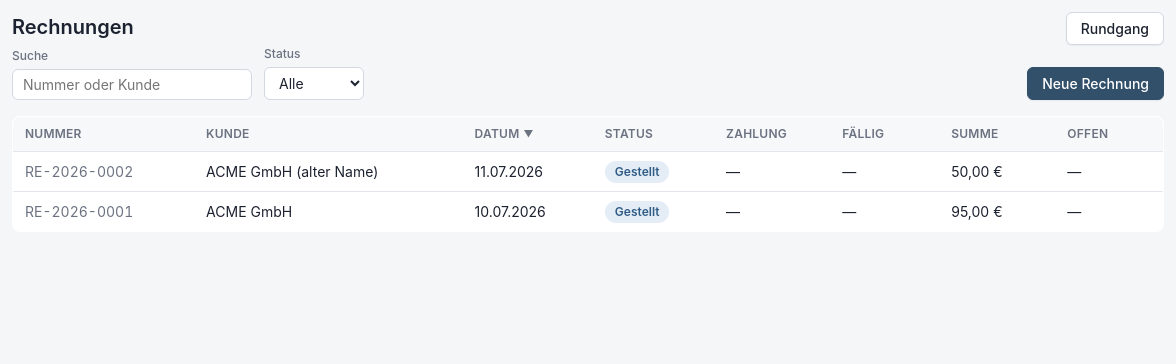
it: Rechnungen › blendet die Rechnungsliste aus, während das Anlage-Formular offen ist
This screenshot has width=1176, height=364.
Check: the button "RE-2026-0001" is shown, box x1=25 y1=201 x2=133 y2=222
Click the button "Neue Rechnung": (1096, 84) x1=1027 y1=67 x2=1164 y2=100
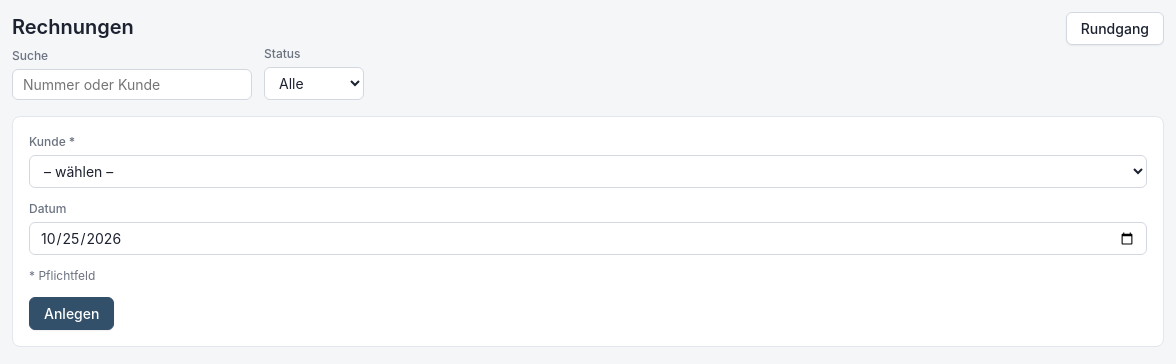
Check: the button "RE-2026-0001" is gone
Check: the button "Anlegen" is shown, box x1=29 y1=297 x2=114 y2=330
